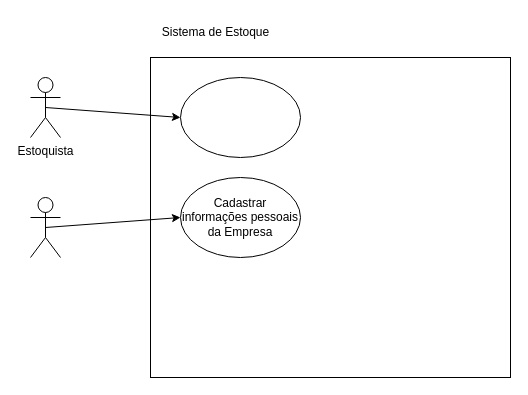
Some shapes in this 528 by 395 pixel diagram are drawn without their labels. The shapes that lost their labels are listed below. From the top down, each one's centre as x and y in pixels, then its label:
At point (240, 117): "Cadastrar Informações pessoais do Usuário".
At point (45, 227): "Empresa".
